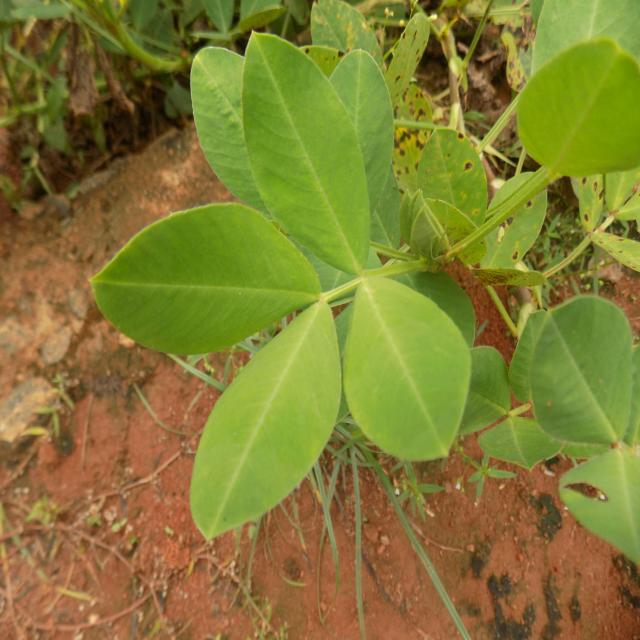Ground nut_healthy: (86, 202, 325, 362), (188, 300, 339, 539), (234, 18, 376, 270), (347, 279, 470, 459), (530, 288, 637, 452)
Ground nut_tikka leaf spot: (421, 122, 487, 224)
